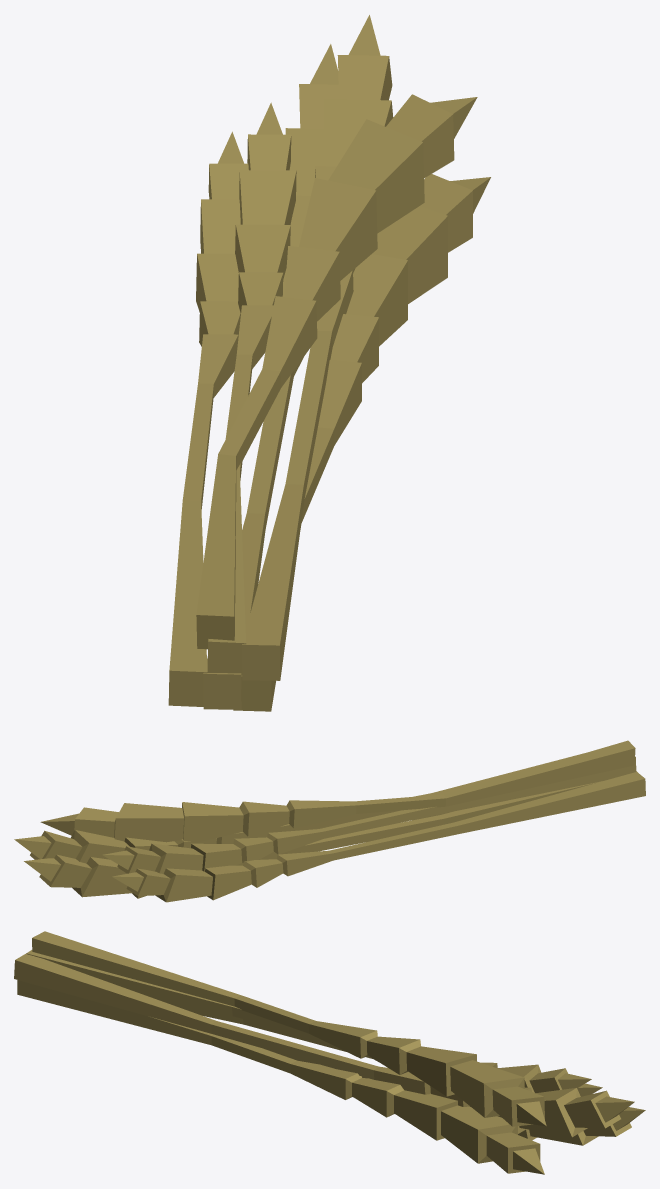
The model's file is Wheat_Crop.gltf.
3 views of the same model, one above another, from view 1: azimuth 30°, elevation 25°; view 2: azimuth 150°, elevation 25°; view 3: azimuth 270°, elevation 25° (orthographic). The views are drawn at different scales.
Visible parts, largest first — view 1: Wheat_Crop; view 2: Wheat_Crop; view 3: Wheat_Crop.
Boxes of the visible parts, left/top/right/bottom form: Wheat_Crop: left=168, top=15, right=490, bottom=711; Wheat_Crop: left=14, top=740, right=645, bottom=902; Wheat_Crop: left=14, top=931, right=645, bottom=1174.
Bounding box in the file's own units: 0.5906 × 0.1048 × 0.7584.
